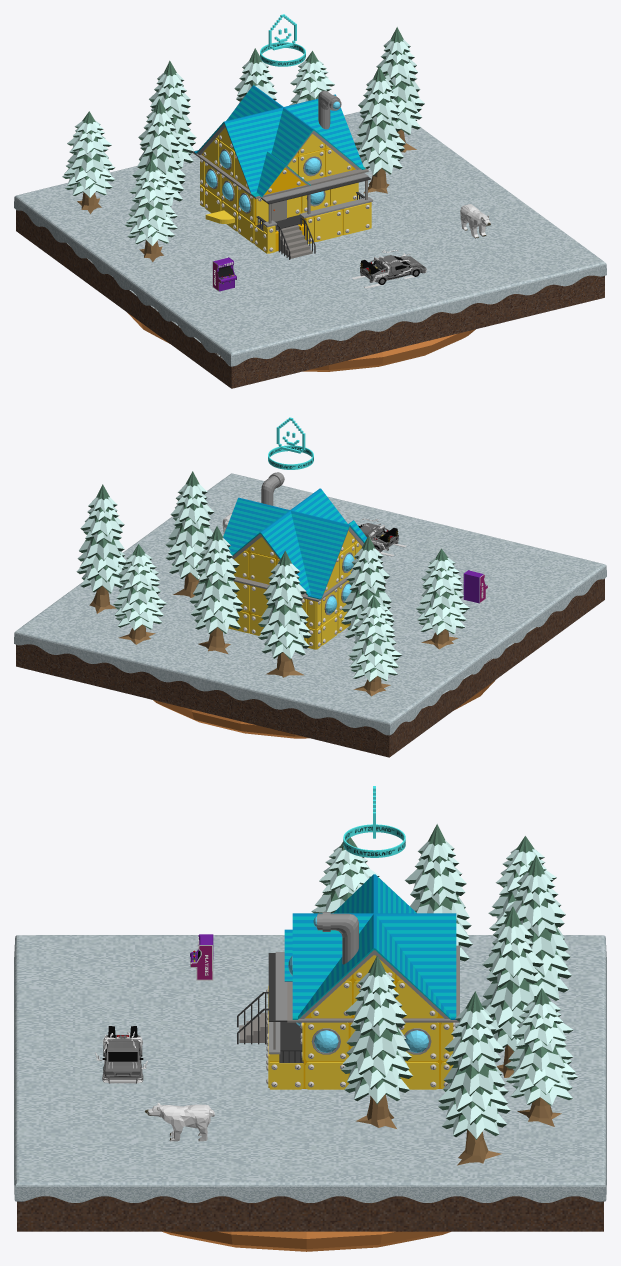
The picture shows the model from 3 angles, top to bottom: view 1: azimuth 30°, elevation 25°; view 2: azimuth 150°, elevation 25°; view 3: azimuth 270°, elevation 25°; orthographic projection. The views are drawn at different scales.
Parts seen in each view (by area): view 1: Cube.003, Cube.1366, UNDERGROUND_PIZZA, VEHICLES_DELOREAN, TYPE_PREMIUM, OBJRANDOM_ARCADE, ANIMAL_OSO_POLAR; view 2: Cube.003, Cube.1366, UNDERGROUND_PIZZA, TYPE_PREMIUM, VEHICLES_DELOREAN, OBJRANDOM_ARCADE; view 3: Cube.003, Cube.1366, UNDERGROUND_PIZZA, VEHICLES_DELOREAN, ANIMAL_OSO_POLAR, TYPE_PREMIUM, OBJRANDOM_ARCADE.
Boxes of the visible parts, <box> form: Cube.003: <box>14,27,606,388</box>; Cube.1366: <box>192,85,373,259</box>; UNDERGROUND_PIZZA: <box>127,312,475,371</box>; VEHICLES_DELOREAN: <box>349,249,426,288</box>; TYPE_PREMIUM: <box>260,14,305,66</box>; OBJRANDOM_ARCADE: <box>212,257,236,291</box>; ANIMAL_OSO_POLAR: <box>460,204,490,238</box>; Cube.003: <box>14,471,606,757</box>; Cube.1366: <box>223,472,385,649</box>; UNDERGROUND_PIZZA: <box>153,680,495,738</box>; TYPE_PREMIUM: <box>268,417,313,469</box>; VEHICLES_DELOREAN: <box>357,518,406,556</box>; OBJRANDOM_ARCADE: <box>463,570,487,603</box>; Cube.003: <box>14,824,606,1231</box>; Cube.1366: <box>237,874,459,1089</box>; UNDERGROUND_PIZZA: <box>162,1231,450,1251</box>; VEHICLES_DELOREAN: <box>95,1026,147,1083</box>; ANIMAL_OSO_POLAR: <box>145,1102,214,1141</box>; TYPE_PREMIUM: <box>343,786,405,857</box>; OBJRANDOM_ARCADE: <box>190,934,213,980</box>.
Bounding box in the file's own units: 4040 × 2679 × 4040.
Materials: 46 (4 with a texture image).
